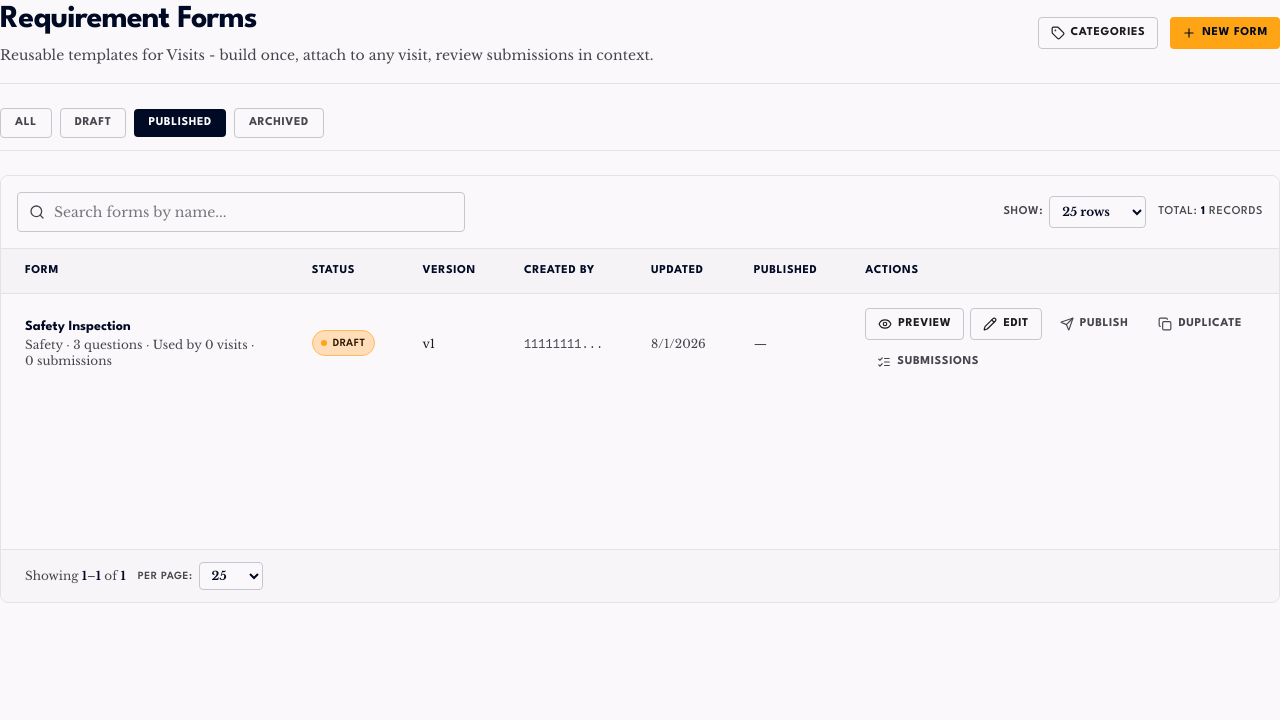
Test: FormsPage - Form Template Management › opens the categories modal and lists existing categories
Expected: the text "Safety Inspection" is shown, 25,320 -> 131,333
Click the button "Categories" at (1098, 33), box 1038,17 -> 1158,49
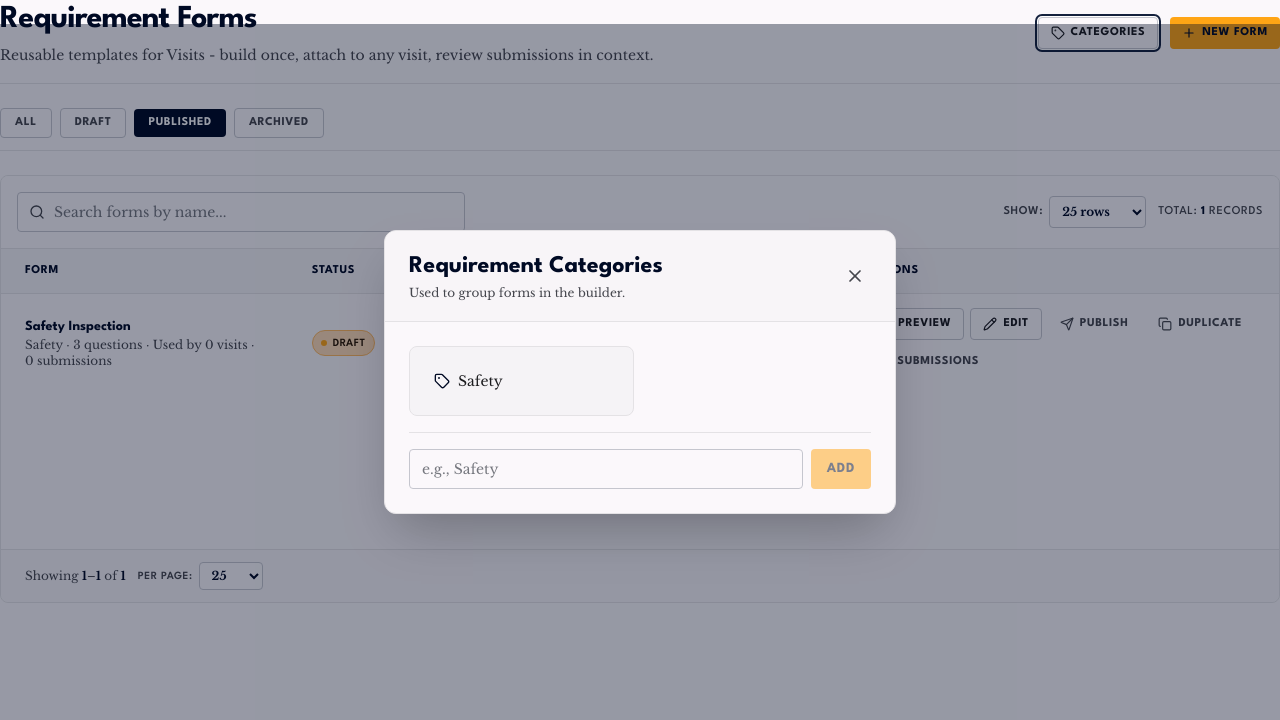
Expected: the heading "Requirement Categories" is shown, 409,251 -> 663,283
Expected: the text "Safety" is shown, 458,371 -> 503,391
